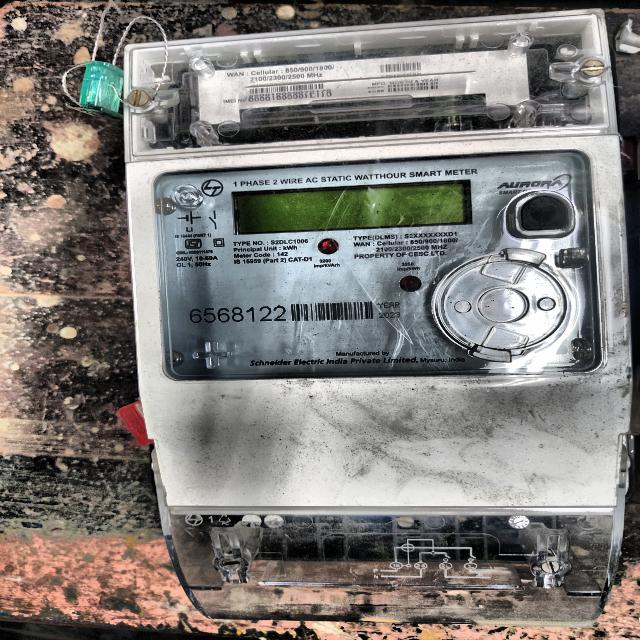Digital: (130, 9, 623, 515)
Reading: (235, 188, 476, 228)
Serial No.: (188, 305, 286, 325)
